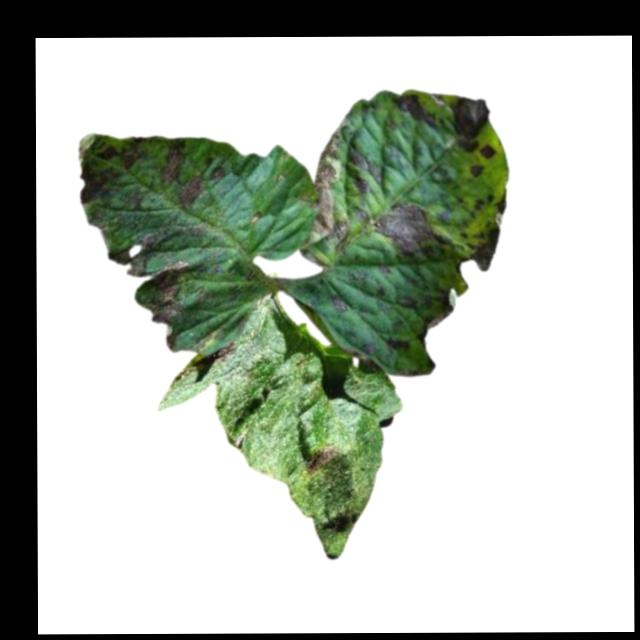Early_blight: (78, 132, 139, 227), (369, 202, 449, 261), (309, 129, 343, 254), (105, 226, 173, 277), (146, 275, 189, 353), (466, 192, 508, 271), (445, 97, 494, 159), (157, 138, 189, 184), (347, 146, 380, 188), (393, 94, 435, 127), (301, 443, 337, 476), (178, 174, 203, 212), (213, 342, 236, 364), (385, 336, 412, 353), (327, 293, 348, 314), (466, 164, 488, 180), (352, 174, 369, 194)
